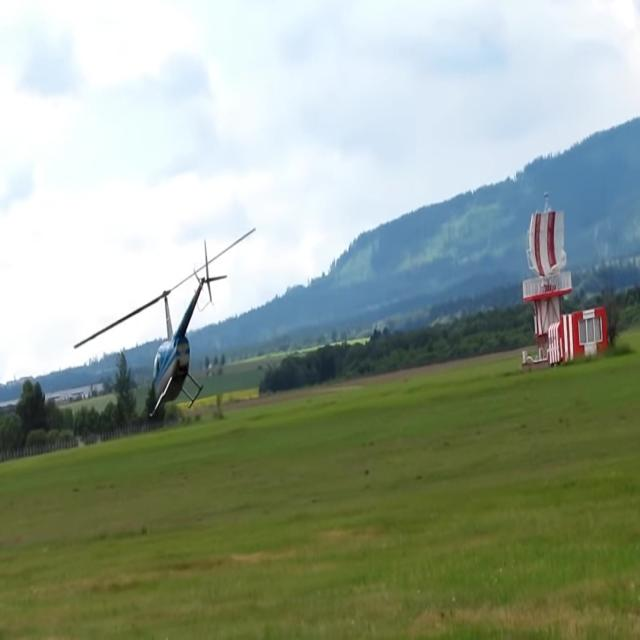CIV_HELO: (148, 238, 228, 420)
